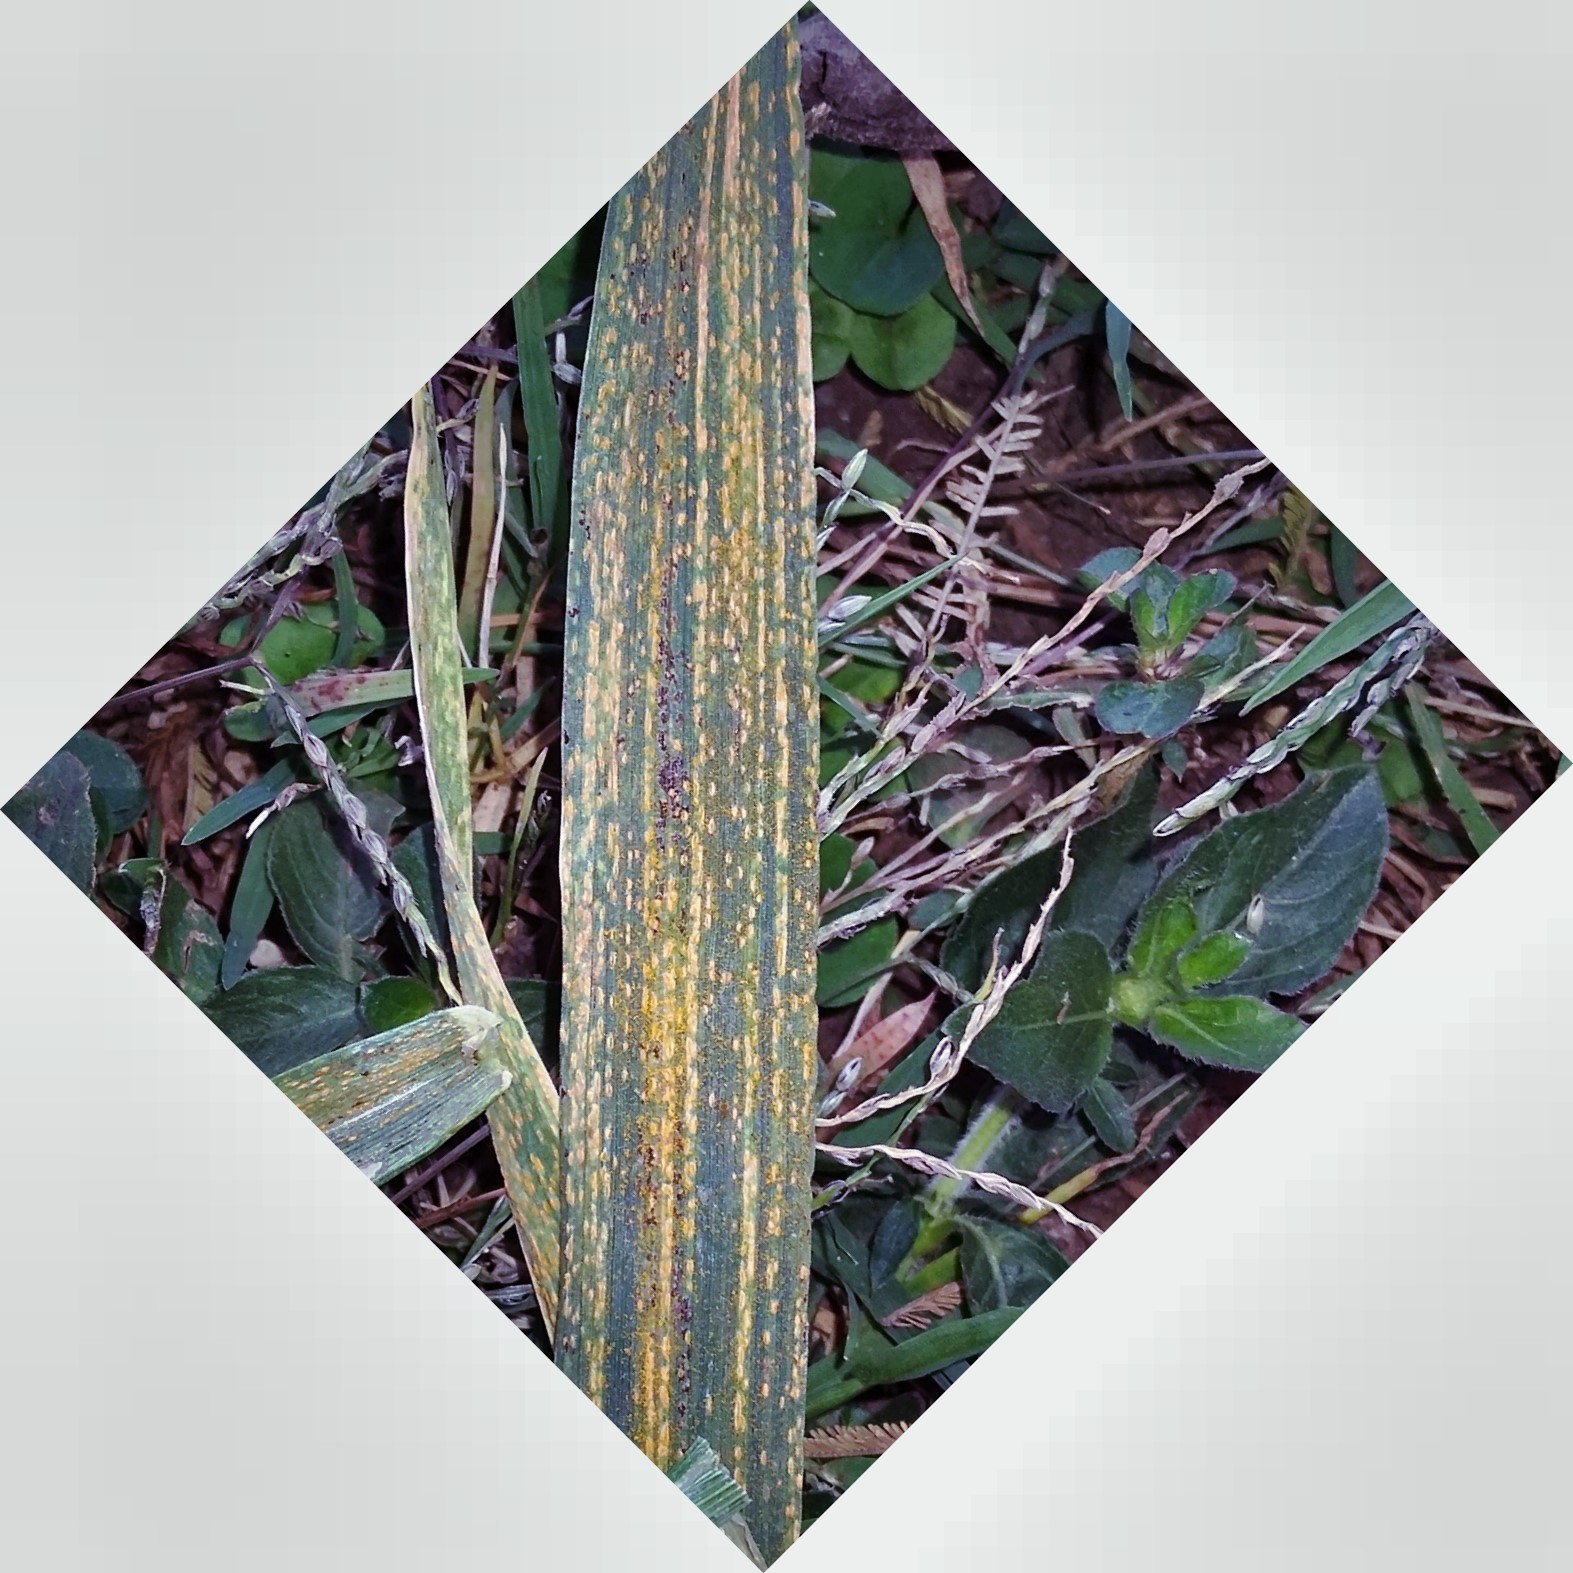Leaf Rust: (563, 266, 833, 1417)
